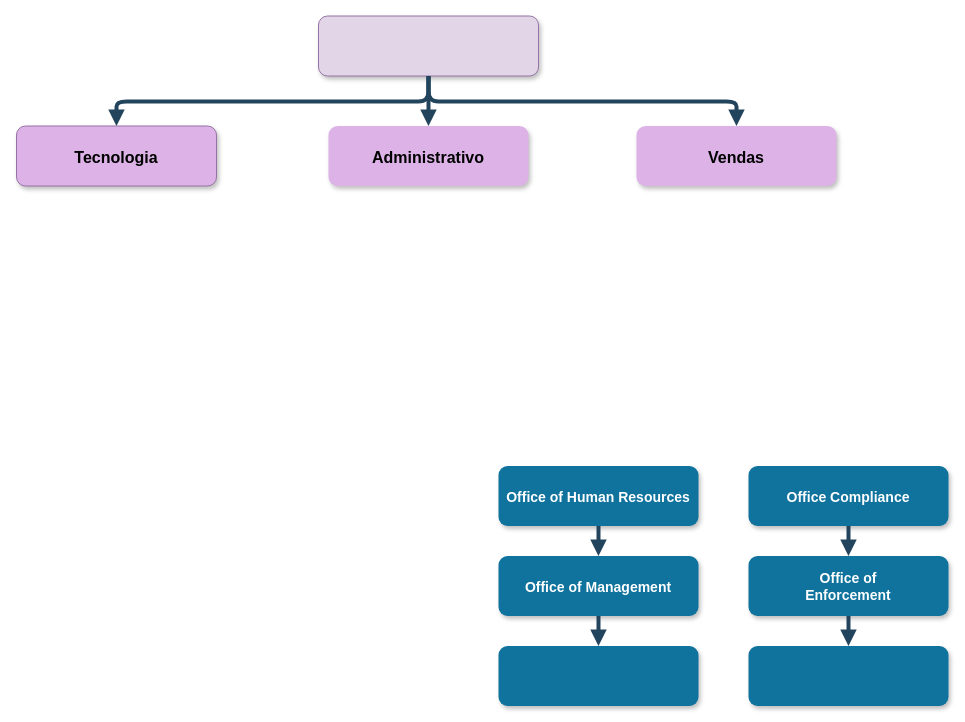
This 965x722 diagram has some shape labels left out. Each missing label, with the centre of its shape:
CEO: the point at 429,47
Office of Regulatory Support: the point at 849,677
Office of Training Services: the point at 599,677
